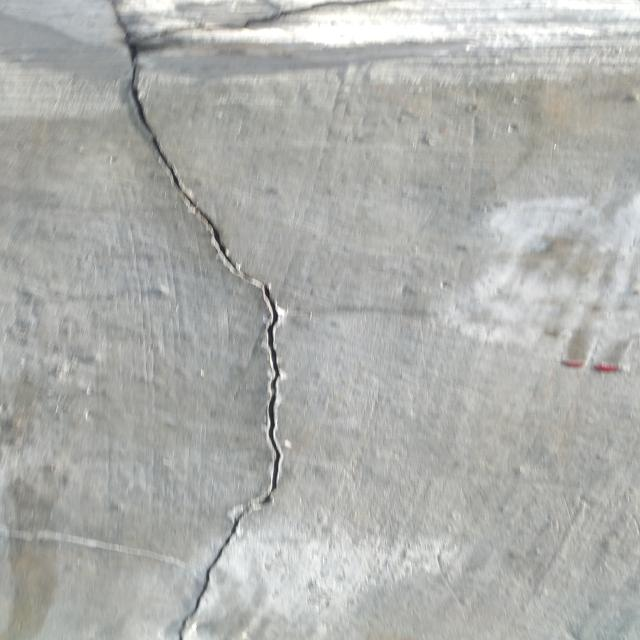Crack: (100, 0, 401, 636)
